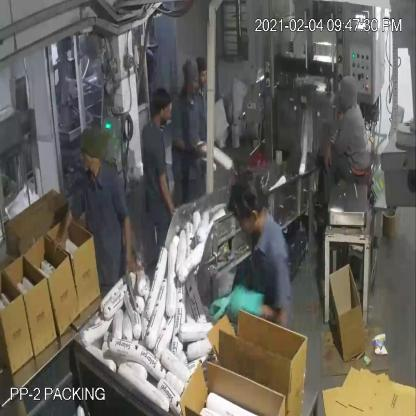glove: (222, 283, 268, 321), (208, 289, 240, 322)
no_glove: (114, 208, 138, 278), (152, 162, 180, 219), (51, 201, 78, 256), (168, 130, 204, 164), (321, 138, 337, 176)
